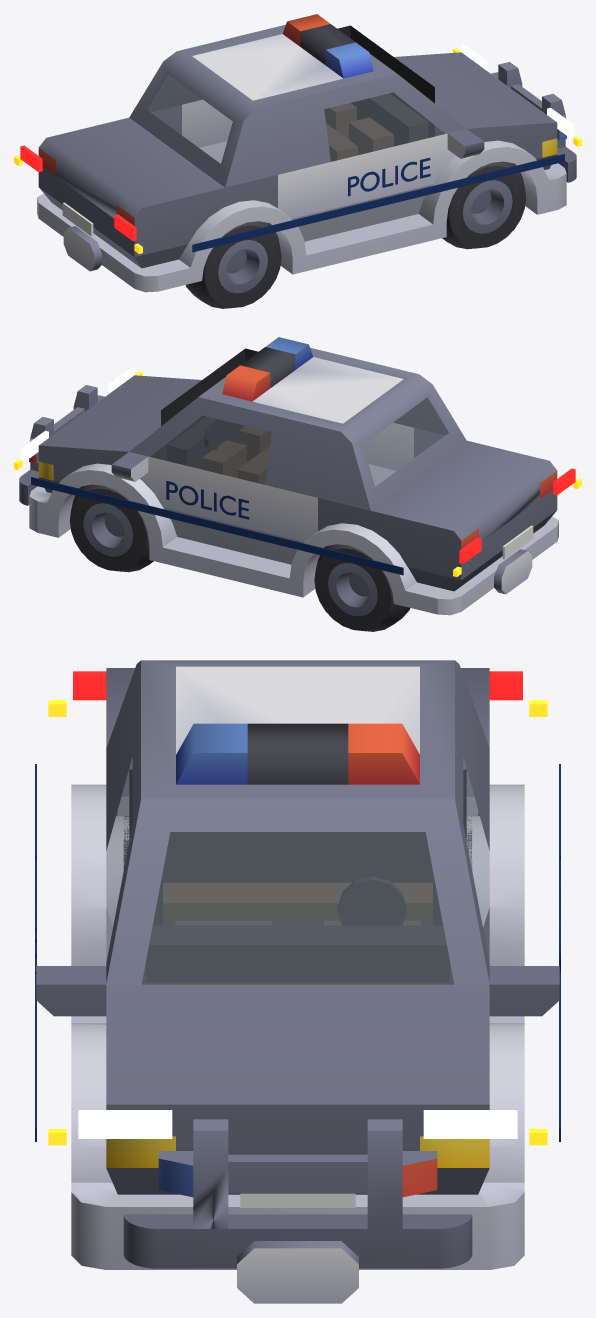
Rendered from veh_police.glb.
3 views of the same model, one above another, from view 1: azimuth 30°, elevation 25°; view 2: azimuth 150°, elevation 25°; view 3: azimuth 270°, elevation 25° (orthographic). The views are drawn at different scales.
Visible parts, largest first — view 1: body, wheel_rr, wheel_fr, decal_stripe_-1, interior_dash, trim_grill, interior, interior_seat_-1, interior_seat_1, light_tail, decal_police_-1, interior_bench (+2 smaller); view 2: body, wheel_rl, wheel_fl, decal_stripe_1, trim_grill, interior, interior_dash, interior_seat_1, decal_police_1, interior_seat_-1, light_tail, interior_bench (+3 smaller); view 3: body, trim_grill, interior_dash, interior, interior_bench, light_head, interior_steer, light_tail, plate_front, interior_seat_-1.
Boxes of the visible parts, x1,y1,x2,y2 form: body: (37,14,566,292); wheel_rr: (185,221,281,308); wheel_fr: (442,161,526,249); decal_stripe_-1: (192,154,564,252); interior_dash: (351,93,428,143); trim_grill: (491,62,576,182); interior: (337,25,434,146); interior_seat_-1: (349,117,393,154); interior_seat_1: (324,103,356,139); light_tail: (20,145,136,240); decal_police_-1: (348,157,430,196); interior_bench: (326,123,358,161); body: (29,337,558,615); wheel_rl: (314,544,410,631); wheel_fl: (69,484,153,572); decal_stripe_1: (31,477,403,575); trim_grill: (19,385,104,505); interior: (161,348,258,469); interior_dash: (167,416,244,466); interior_seat_1: (202,440,246,477); decal_police_1: (166,481,249,519); interior_seat_-1: (239,426,271,462); light_tail: (459,468,575,563); interior_bench: (237,446,269,484); body: (36,660,559,1269); trim_grill: (123,1119,472,1303); interior_dash: (146,925,449,982); interior: (129,769,466,984); interior_bench: (163,882,432,984); light_head: (78,1110,517,1138); interior_steer: (337,876,406,925); light_tail: (73,671,522,700); plate_front: (240,1193,355,1207); interior_seat_-1: (175,920,271,984).
Size of the model in its own units: 4.73 by 1.97 by 2.29.
Materials: 9 (1 with a texture image).
